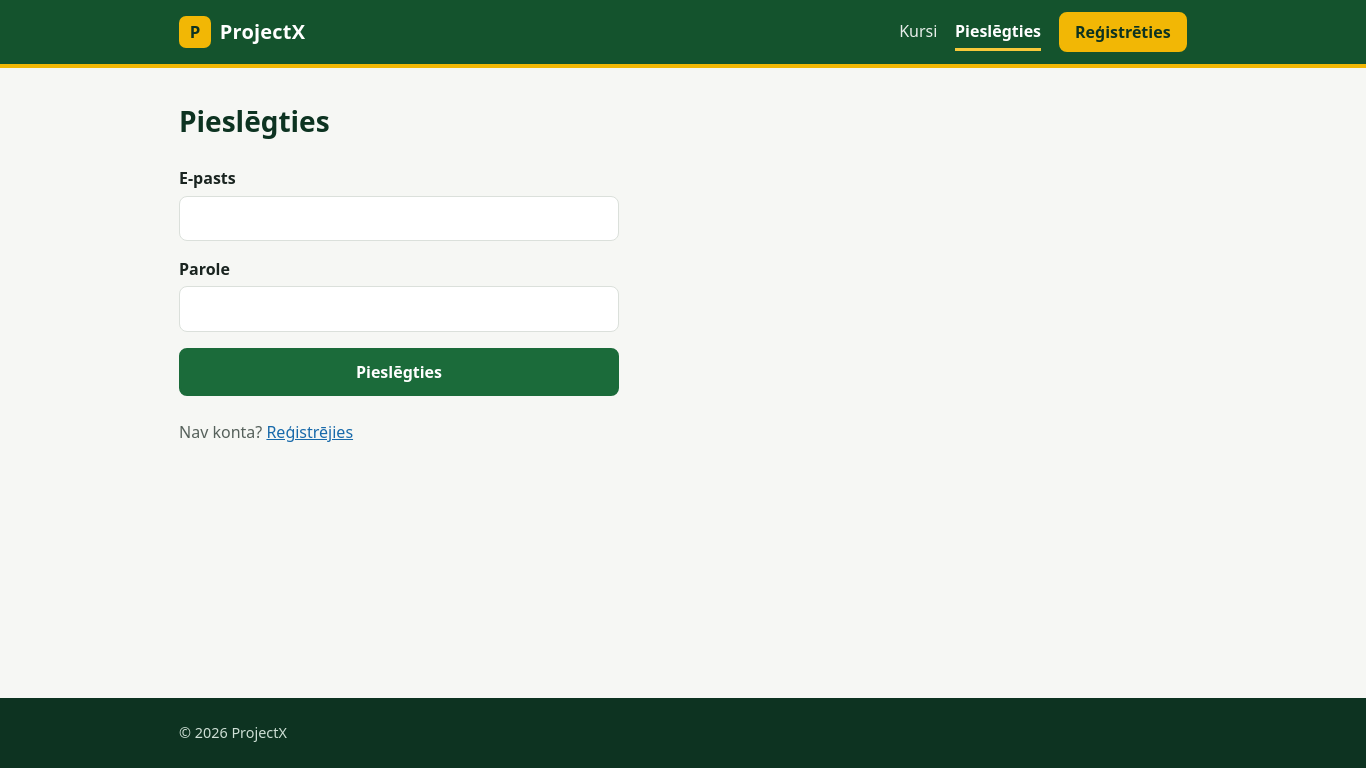
Test: login › shows a Latvian message for a wrong password
In the field labelled "E-pasts": x=399, y=218 top-left (179, 196), bottom-right (619, 241), type "anna@example.com"
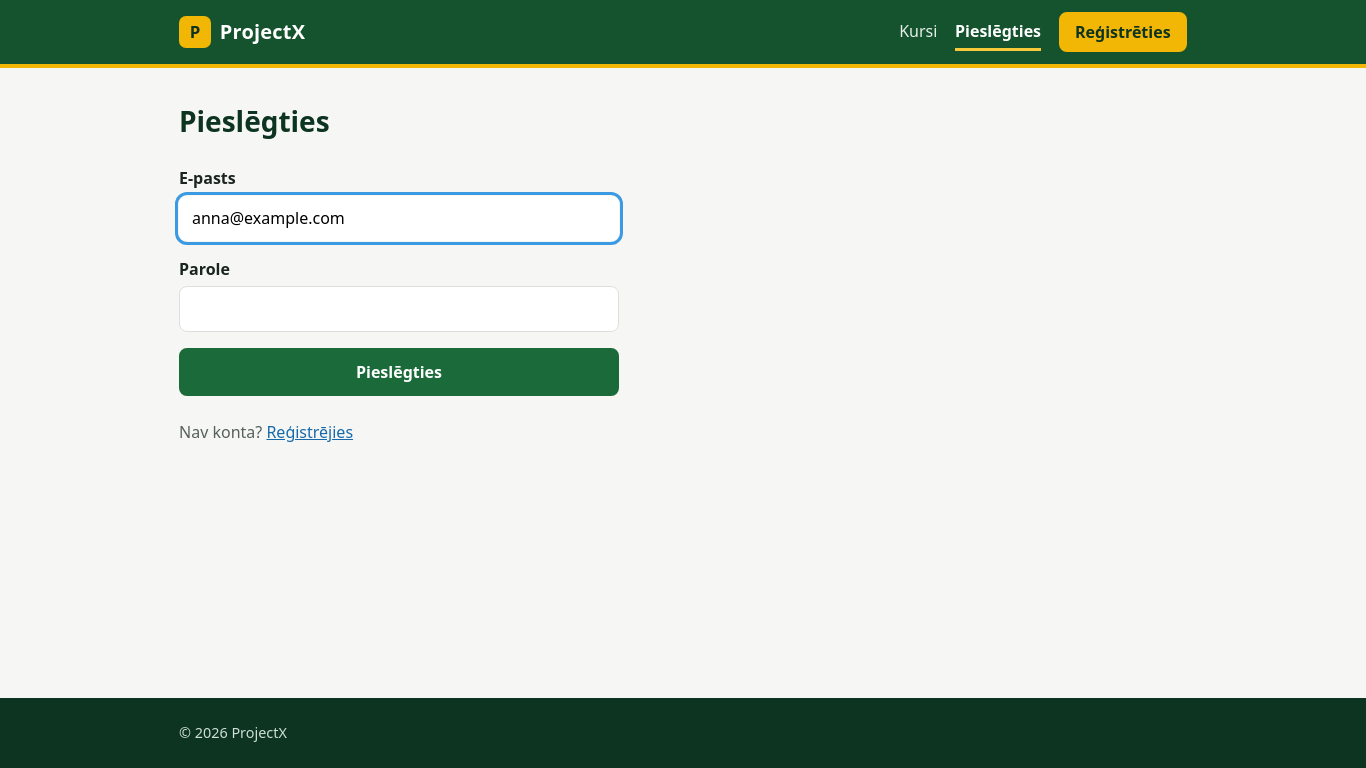
In the password field labelled "Parole": x=399, y=309 top-left (179, 286), bottom-right (619, 332), type "wrong password"
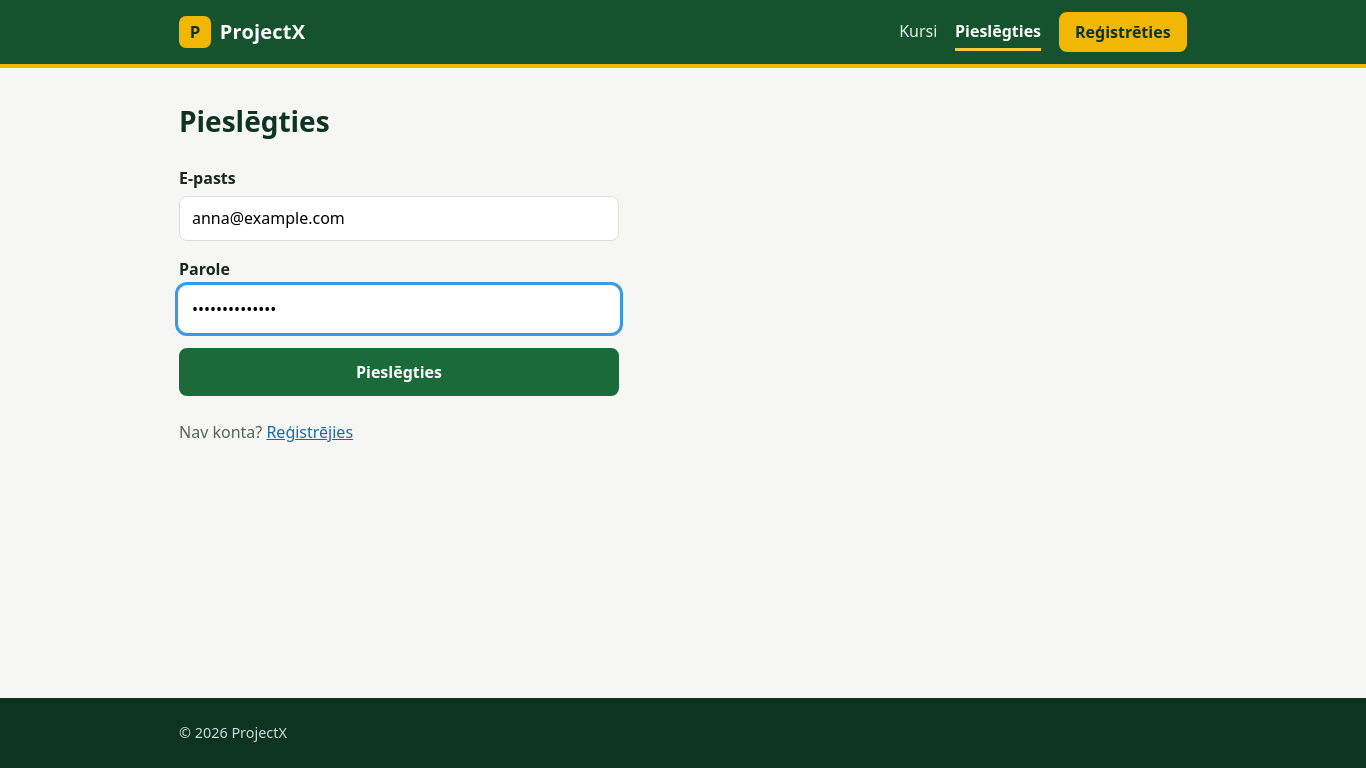
Click the button "Pieslēgties": x=399, y=372 top-left (179, 348), bottom-right (619, 396)
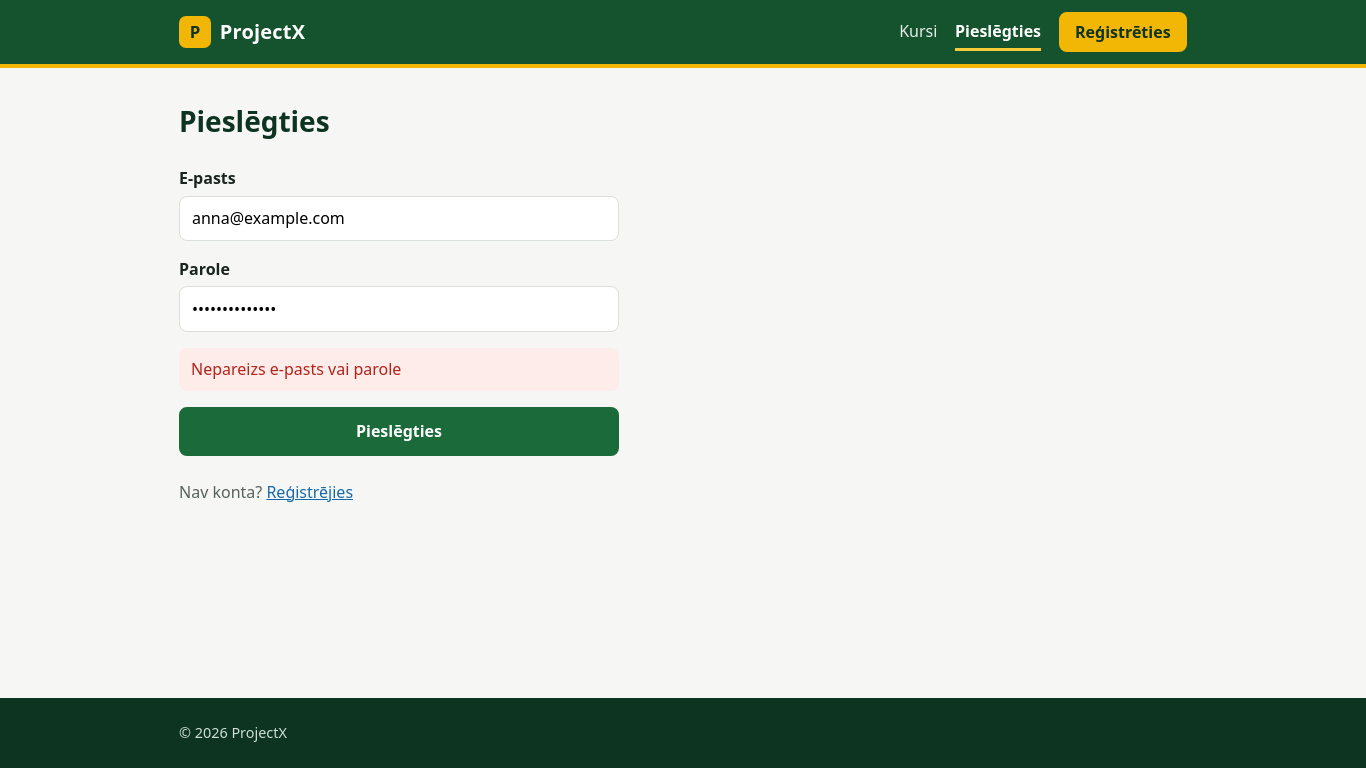
Now the message reads "Nepareizs e-pasts vai parole", box top-left (191, 358), bottom-right (401, 380)
